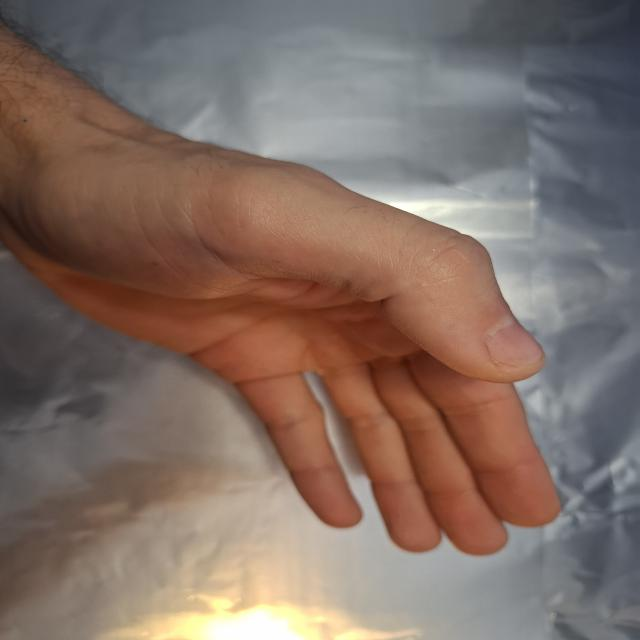glove_off: (19, 127, 565, 556)
